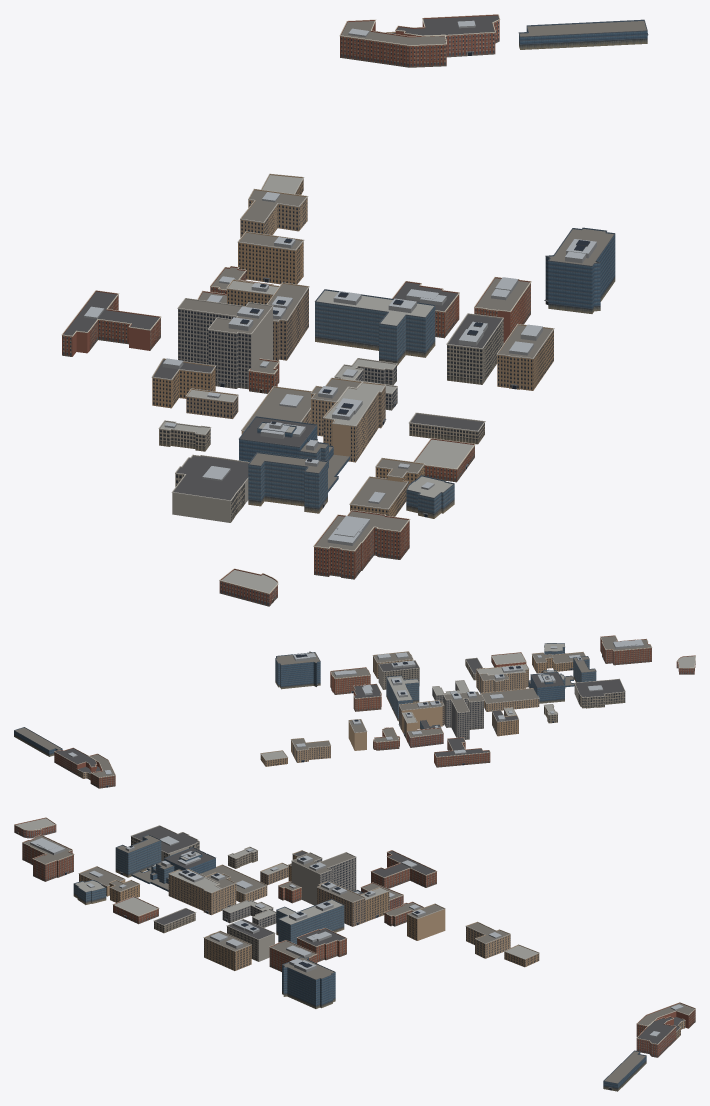
Rendered from buildings-medical.glb.
The picture shows the model from 3 angles, top to bottom: view 1: azimuth 30°, elevation 25°; view 2: azimuth 150°, elevation 25°; view 3: azimuth 270°, elevation 25°; orthographic projection. The views are drawn at different scales.
Visible parts, largest first — view 1: buildings-medical; view 2: buildings-medical; view 3: buildings-medical.
Part boxes in pixels (box(x1,y1,x2,y2)): buildings-medical: box(61, 14, 648, 606); buildings-medical: box(14, 635, 695, 788); buildings-medical: box(14, 817, 695, 1091).
Size of the model in its own units: 869 by 56.32 by 940.
Materials: 20 (6 with a texture image).
